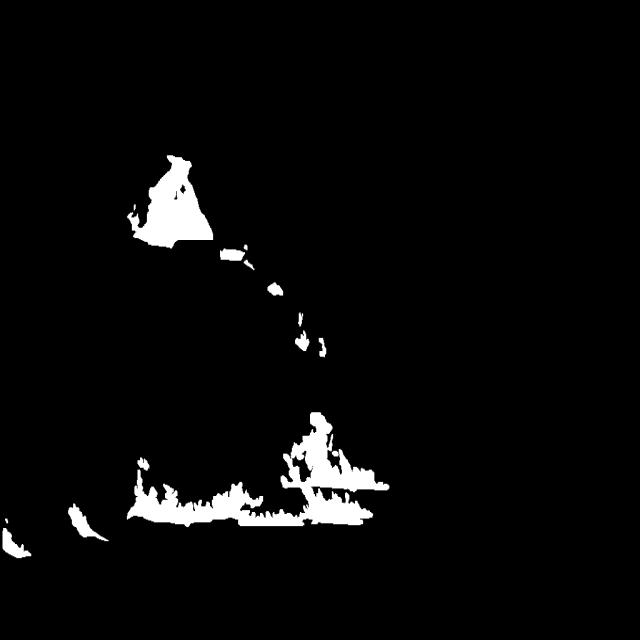fire: (77, 147, 360, 366), (2, 467, 396, 570)
